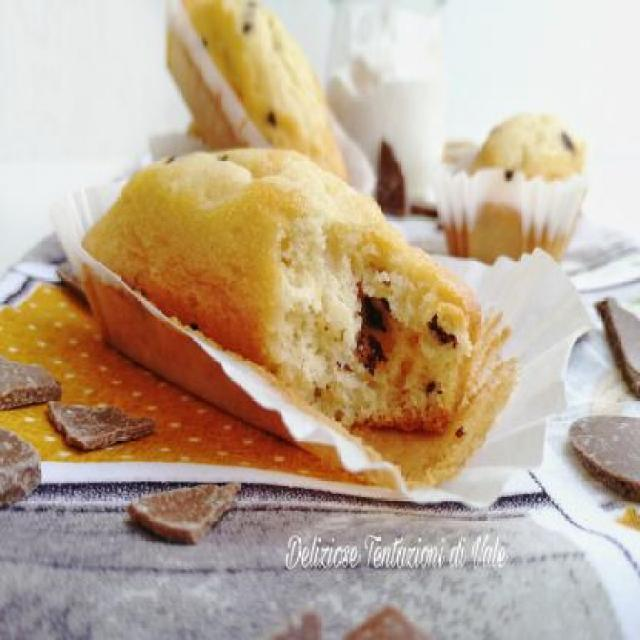Merendine packaged: (73, 143, 530, 494)
